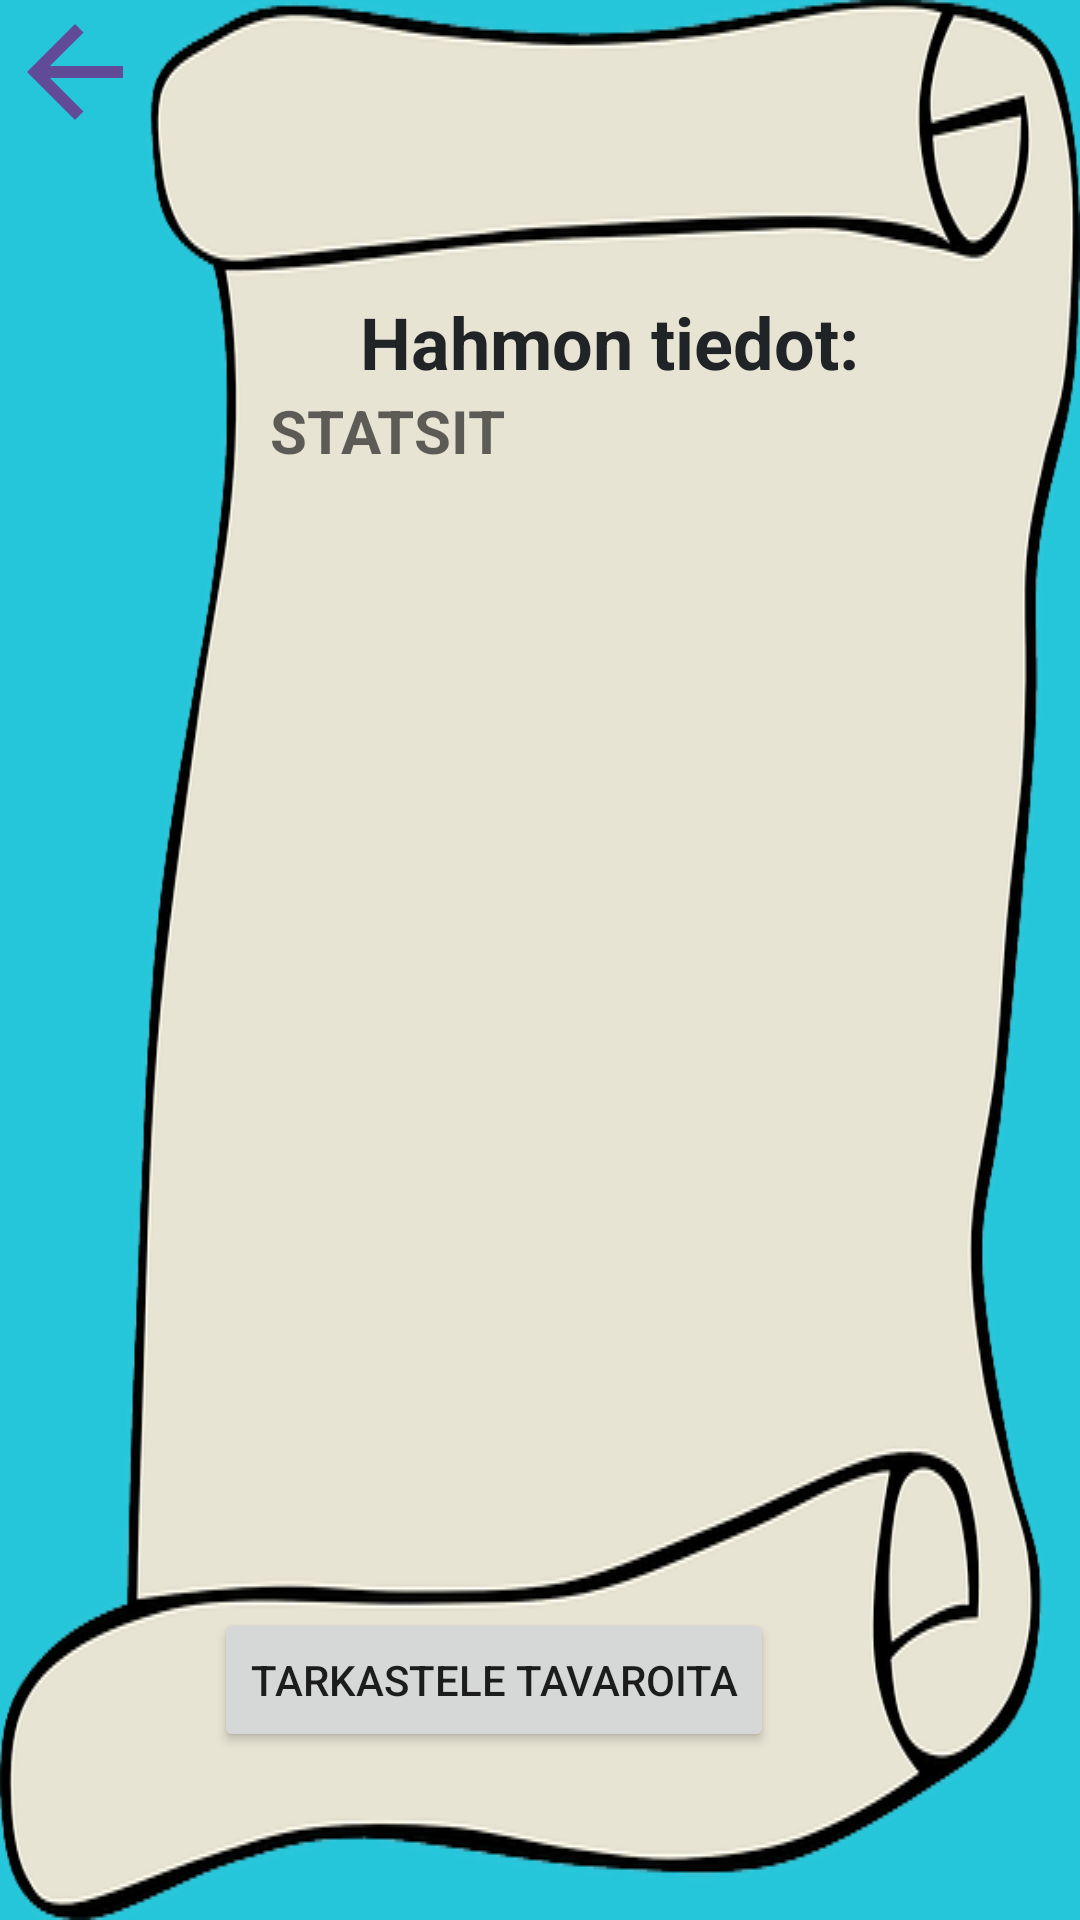

Named icons in this screenshot (1080px×1920px) and their bounding boxes, (x1, y1, x2, y2):
arrow back: (27, 24, 123, 120)
